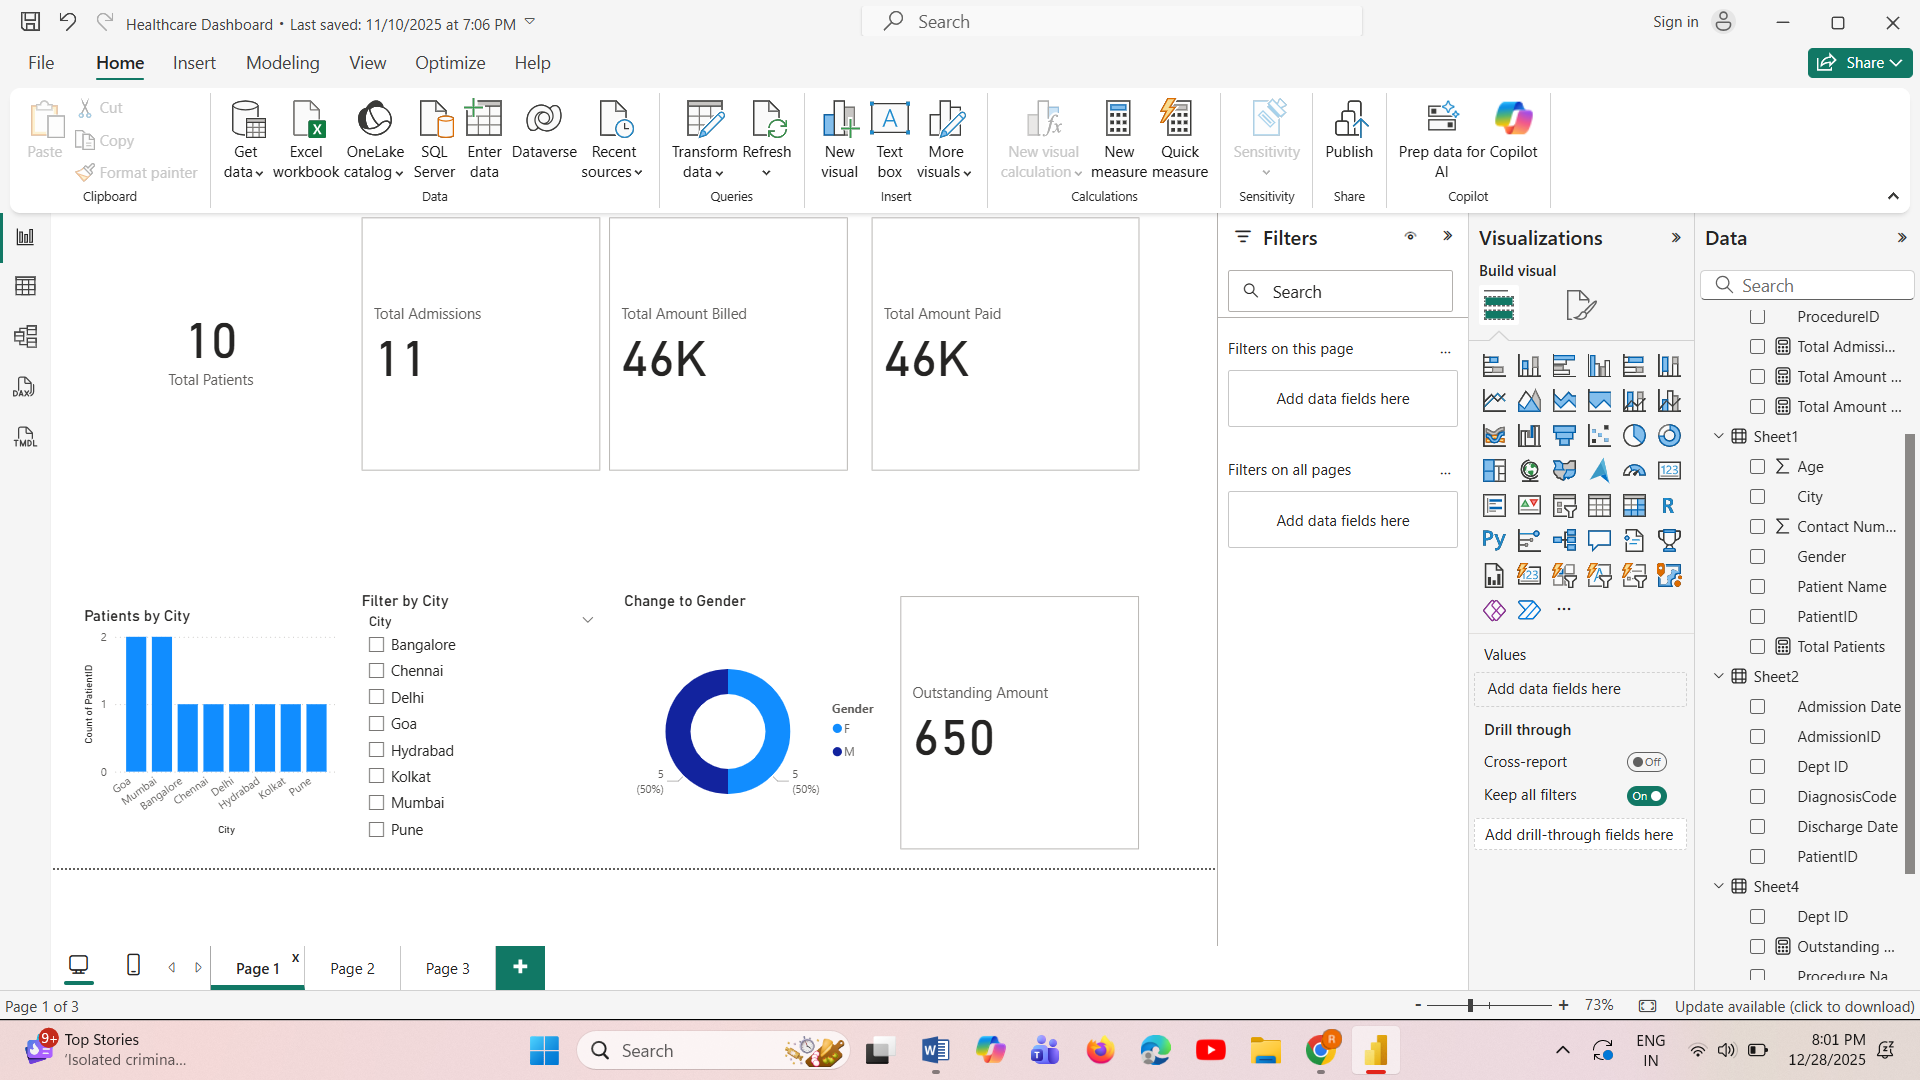

Layout of this report page (visuals, bound fields, positions):
{"tool":"powerbi","page":{"name":"Page 1","canvas":[1280,720],"ordinal":0},"visuals":[{"type":"card","fields":{"Values":["Sheet1.Total Patients"]},"box":[32,0,288,288],"z":0},{"type":"donutChart","title":"Change to Gender","fields":{"Category":["Sheet1.Gender"],"Y":["CountNonNull(Sheet1.PatientID)"]},"box":[624,416,304,288],"z":1000},{"type":"clusteredColumnChart","title":"Patients by City","fields":{"Category":["Sheet1.City"],"Y":["CountNonNull(Sheet1.PatientID)"]},"box":[32,432,288,256],"z":2000},{"type":"slicer","title":"Filter by City","fields":{"Values":["Sheet1.City"]},"box":[336,416,272,288],"z":3000},{"type":"cardVisual","fields":{"Data":["Amount Billed.Total Admissions"]},"box":[336,0,272,288],"z":4000},{"type":"cardVisual","fields":{"Data":["Amount Billed.Total Amount Billed"]},"box":[608,0,272,288],"z":5000},{"type":"cardVisual","fields":{"Data":["Amount Billed.Total Amount Paid"]},"box":[896,0,304,288],"z":6000},{"type":"cardVisual","fields":{"Data":["Sheet4.Outstanding Amount"]},"box":[928,416,272,288],"z":7000}]}

Visuals, with their boxes on the page's 1280x720 design canvas (x1, y1, x2, y2). These are canvas units, not pixel positions in the 1920x1080 screenshot, which may show the page scaled, cropped or inside an application window:
card - Sheet1.Total Patients: bbox=[32, 0, 320, 288]
"Change to Gender" donutChart: bbox=[624, 416, 928, 704]
"Patients by City" clusteredColumnChart: bbox=[32, 432, 320, 688]
"Filter by City" slicer: bbox=[336, 416, 608, 704]
cardVisual - Amount Billed.Total Admissions: bbox=[336, 0, 608, 288]
cardVisual - Amount Billed.Total Amount Billed: bbox=[608, 0, 880, 288]
cardVisual - Amount Billed.Total Amount Paid: bbox=[896, 0, 1200, 288]
cardVisual - Sheet4.Outstanding Amount: bbox=[928, 416, 1200, 704]
